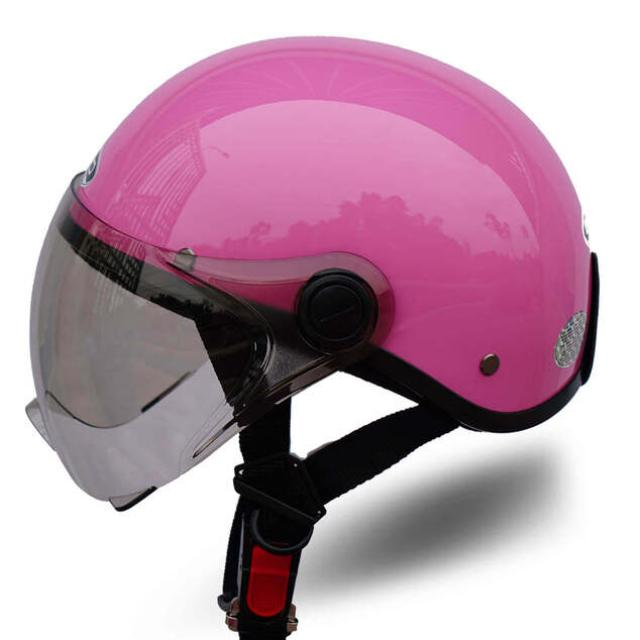Helmet: (14, 21, 617, 640)
